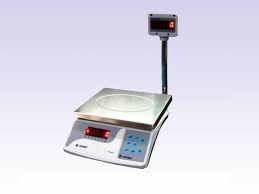Industrial Scale: (63, 13, 180, 168)
